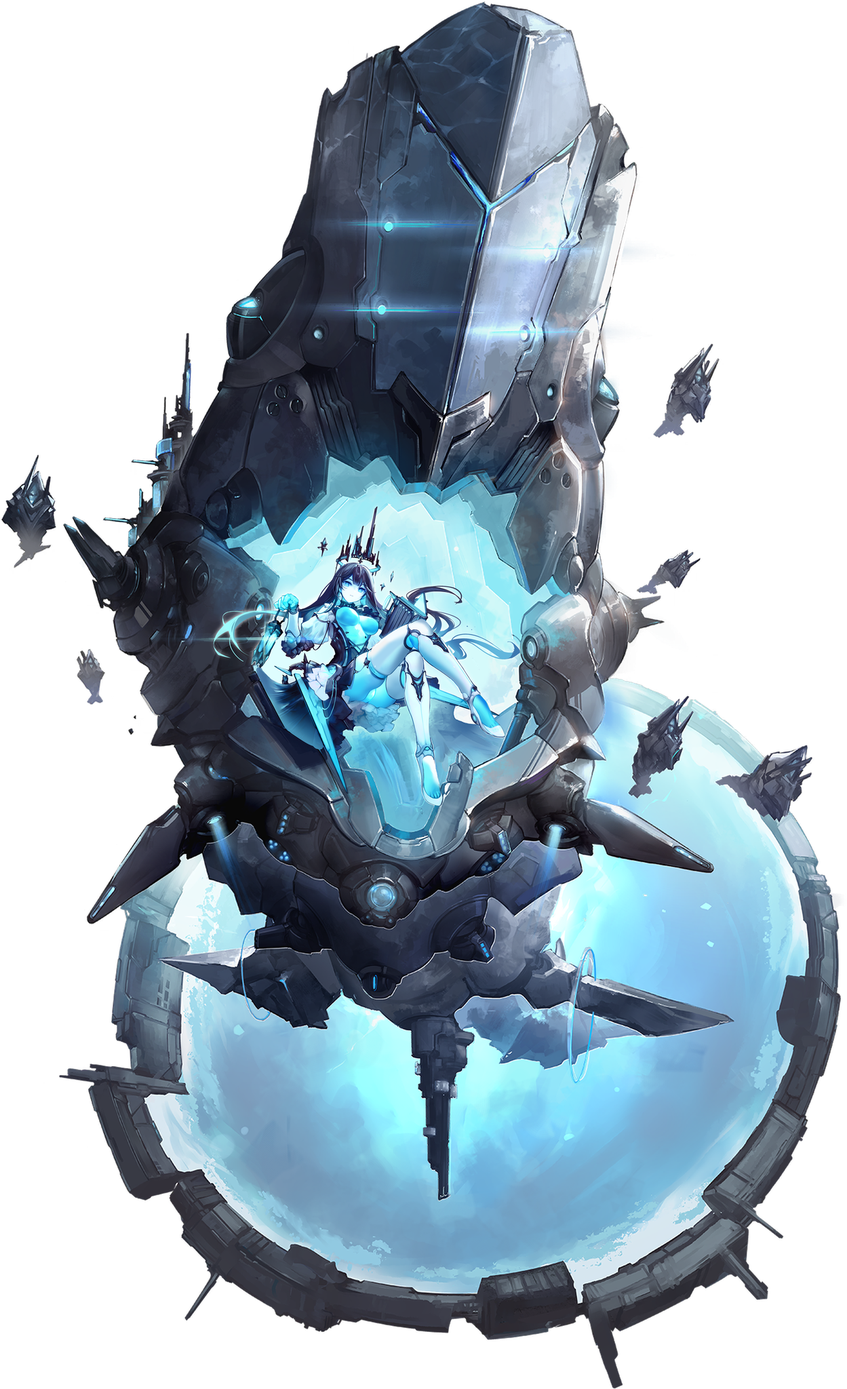person: (1, 1, 844, 1388)
